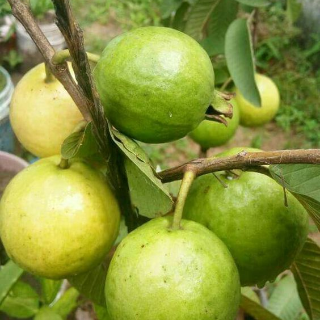oi: (94, 26, 224, 142), (1, 155, 116, 277), (107, 218, 239, 320)
